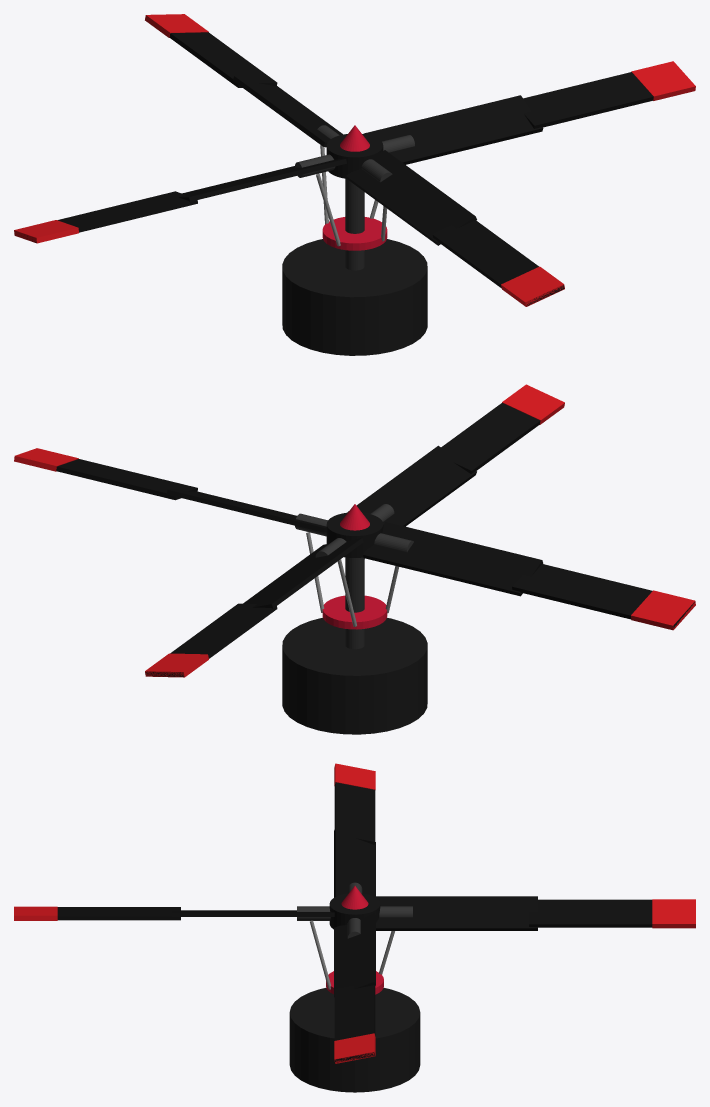
The model's file is heli_propeller.glb.
3 renders of one model, top to bottom at view 1: azimuth 30°, elevation 25°; view 2: azimuth 150°, elevation 25°; view 3: azimuth 270°, elevation 25°, orthographic. The views are drawn at different scales.
Visible parts, largest first — view 1: gearbox, blade_e, blade_s, blade_e_out, blade_s_out, blade_n_out, blade_w_out, blade_n, blade_w, tip_e, tip_s, swashplate (+4 smaller); view 2: gearbox, blade_w, blade_s, blade_w_out, blade_s_out, blade_n_out, blade_n, blade_e_out, tip_w, blade_e, swashplate, mast (+4 smaller); view 3: gearbox, blade_n, blade_n_out, blade_e, blade_w, blade_e_out, blade_w_out, blade_s_out, tip_n, blade_s, hub, tip_e (+2 smaller).
Part boxes in pixels (x1,y1,x2,y2): gearbox: [282, 239, 427, 355]; blade_e: [363, 95, 543, 164]; blade_s: [346, 150, 476, 245]; blade_e_out: [523, 72, 653, 128]; blade_s_out: [432, 220, 564, 306]; blade_n_out: [169, 32, 277, 87]; blade_w_out: [27, 191, 197, 242]; blade_n: [233, 76, 343, 147]; blade_w: [178, 159, 346, 201]; tip_e: [631, 61, 695, 100]; tip_s: [501, 266, 564, 306]; swashplate: [322, 217, 387, 250]; gearbox: [282, 617, 427, 734]; blade_w: [363, 522, 543, 596]; blade_s: [347, 445, 476, 526]; blade_w_out: [512, 564, 694, 627]; blade_s_out: [441, 403, 540, 473]; blade_n_out: [145, 603, 277, 676]; blade_n: [243, 538, 363, 608]; blade_e_out: [56, 459, 197, 500]; tip_w: [631, 590, 695, 630]; blade_e: [166, 489, 326, 532]; swashplate: [322, 595, 387, 629]; mast: [345, 557, 364, 649]; gearbox: [289, 988, 420, 1092]; blade_n: [375, 896, 537, 930]; blade_n_out: [529, 899, 652, 927]; blade_e: [334, 913, 375, 997]; blade_w: [334, 827, 375, 897]; blade_e_out: [334, 985, 375, 1062]; blade_w_out: [334, 782, 375, 844]; blade_s_out: [57, 907, 180, 920]; tip_n: [652, 899, 695, 928]; blade_s: [172, 910, 334, 916]; hub: [329, 893, 380, 929]; tip_e: [334, 1033, 375, 1063].
Size of the model in its own units: 4.7 by 1.36 by 4.7.
